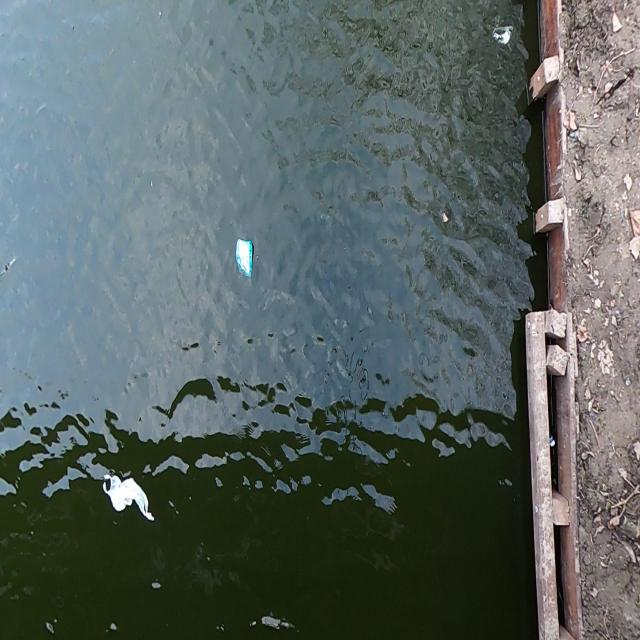Sac plastique: (98, 470, 159, 528)
